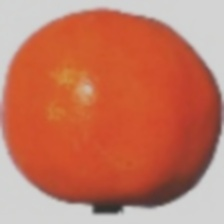tangerine: (9, 23, 178, 189)
